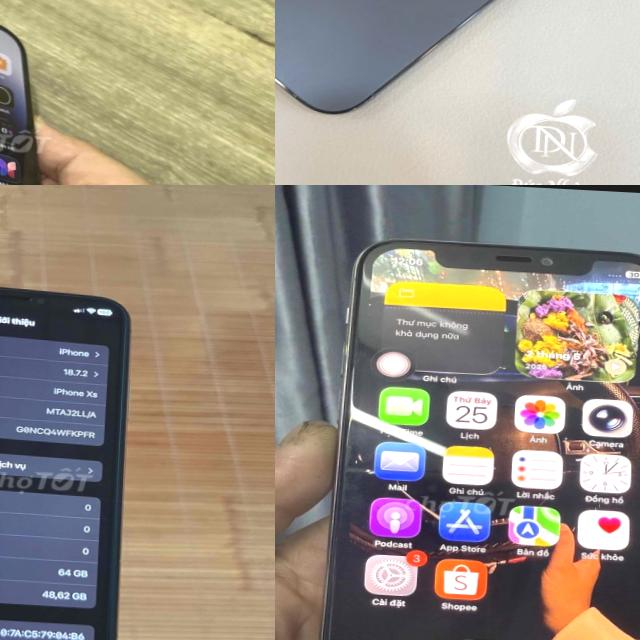gen_11: (305, 220, 640, 640)
gen_14: (275, 0, 640, 156), (0, 0, 96, 185)
gen_x_xs: (0, 267, 144, 640)
